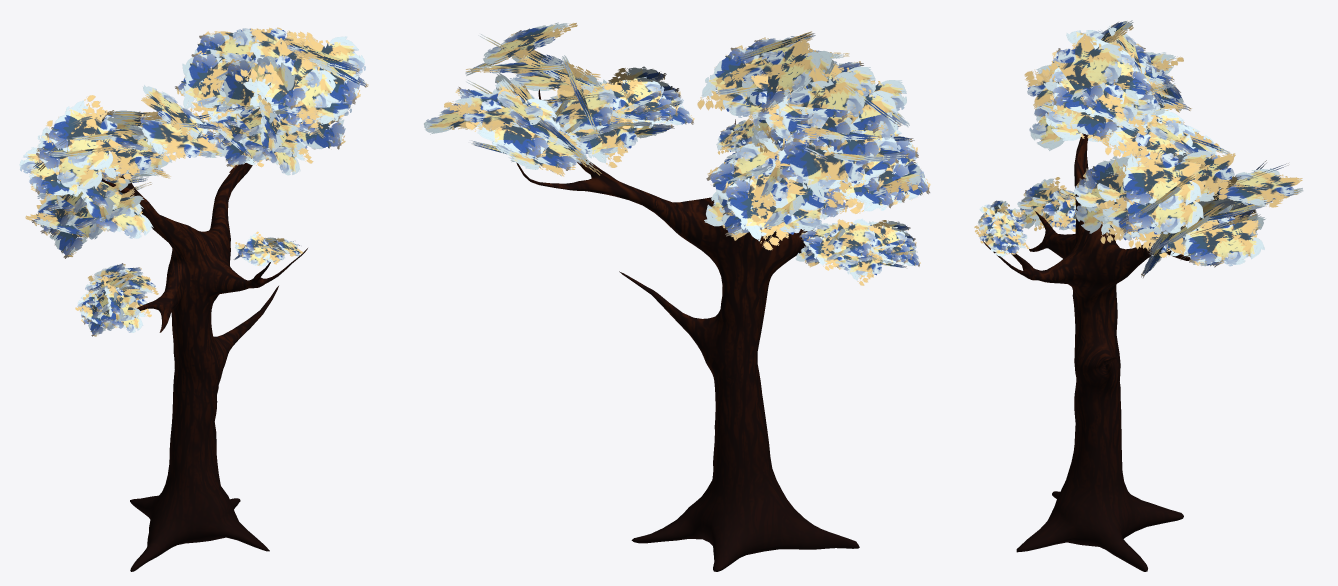
Rendered from treever3.fbx.
The picture shows the model from 3 angles, left to right: view 1: azimuth 30°, elevation 25°; view 2: azimuth 150°, elevation 25°; view 3: azimuth 270°, elevation 25°; orthographic projection. The views are drawn at different scales.
Parts seen in each view (by area): view 1: tree_ver3_leafheap, GEO_treetrunk_a2; view 2: tree_ver3_leafheap, GEO_treetrunk_a2; view 3: tree_ver3_leafheap, GEO_treetrunk_a2.
Boxes of the visible parts, x1,y1,x2,y2 form: tree_ver3_leafheap: [19, 27, 368, 336]; GEO_treetrunk_a2: [101, 158, 307, 571]; tree_ver3_leafheap: [424, 22, 930, 285]; GEO_treetrunk_a2: [516, 89, 859, 571]; tree_ver3_leafheap: [974, 20, 1303, 277]; GEO_treetrunk_a2: [982, 134, 1190, 571].
Size of the model in its own units: 5.02 by 5.6 by 3.74.
